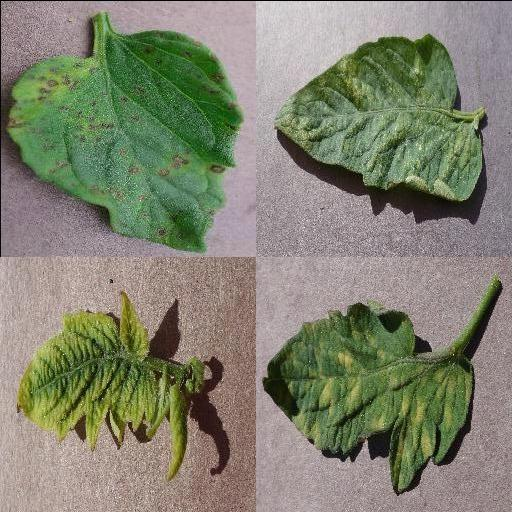Leaf Mold: (261, 300, 475, 492)
Septoria: (5, 28, 241, 252)
Spider Mites: (273, 34, 483, 202)
Yellow Leaf Curl Virus: (17, 287, 157, 449)
